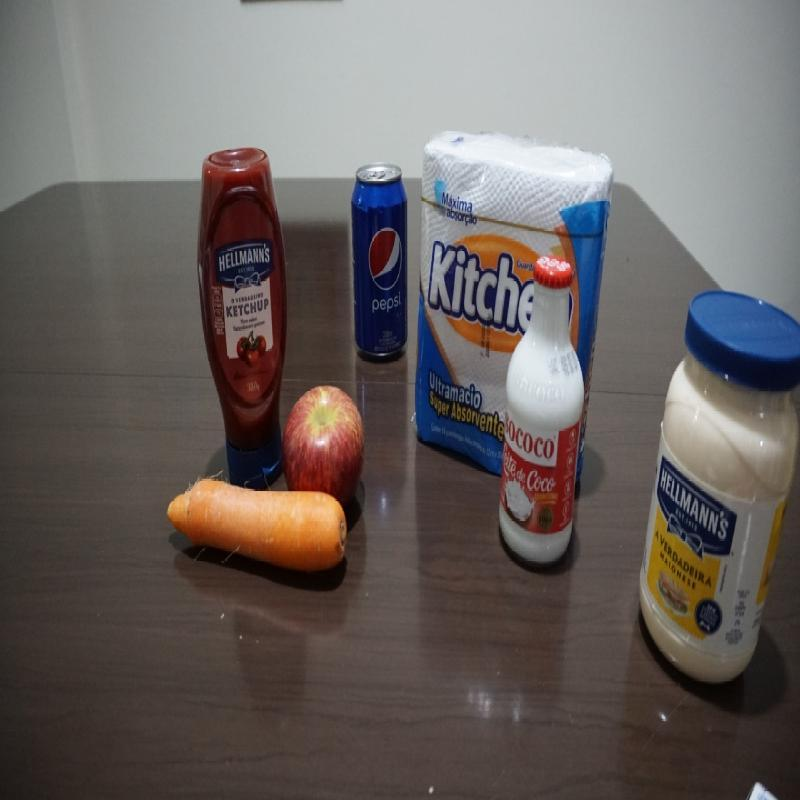Apple: (283, 384, 366, 514)
Carrot: (163, 476, 349, 588)
Coconut Milk: (497, 250, 586, 576)
Ketchup: (193, 146, 290, 486)
Mayonnaise: (637, 288, 800, 689)
Napkin: (415, 122, 616, 496)
Soda can: (349, 157, 410, 366)
